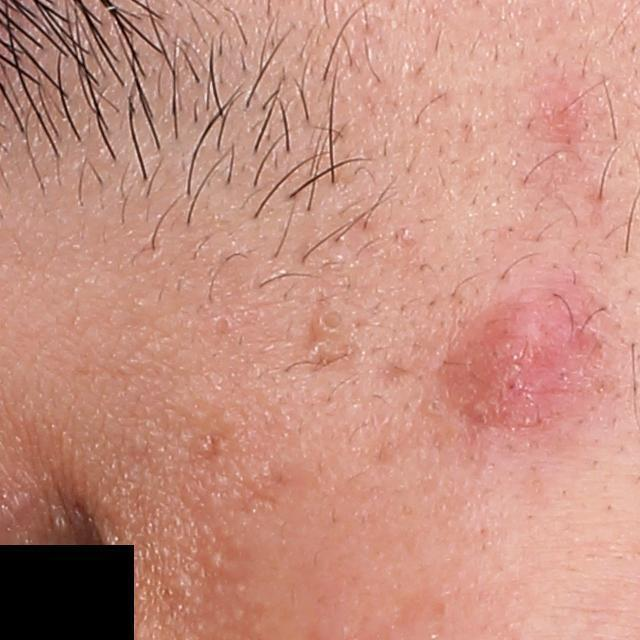comedo: (304, 302, 355, 345)
nodule: (406, 277, 622, 453)
